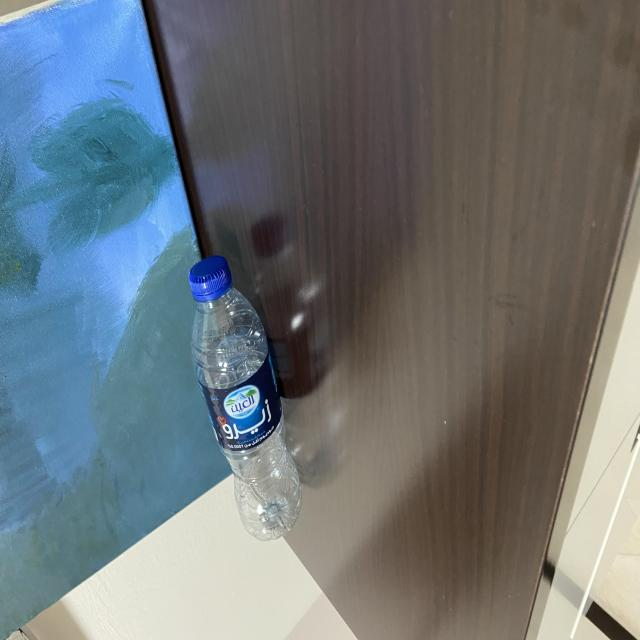plastic: (186, 251, 304, 546)
